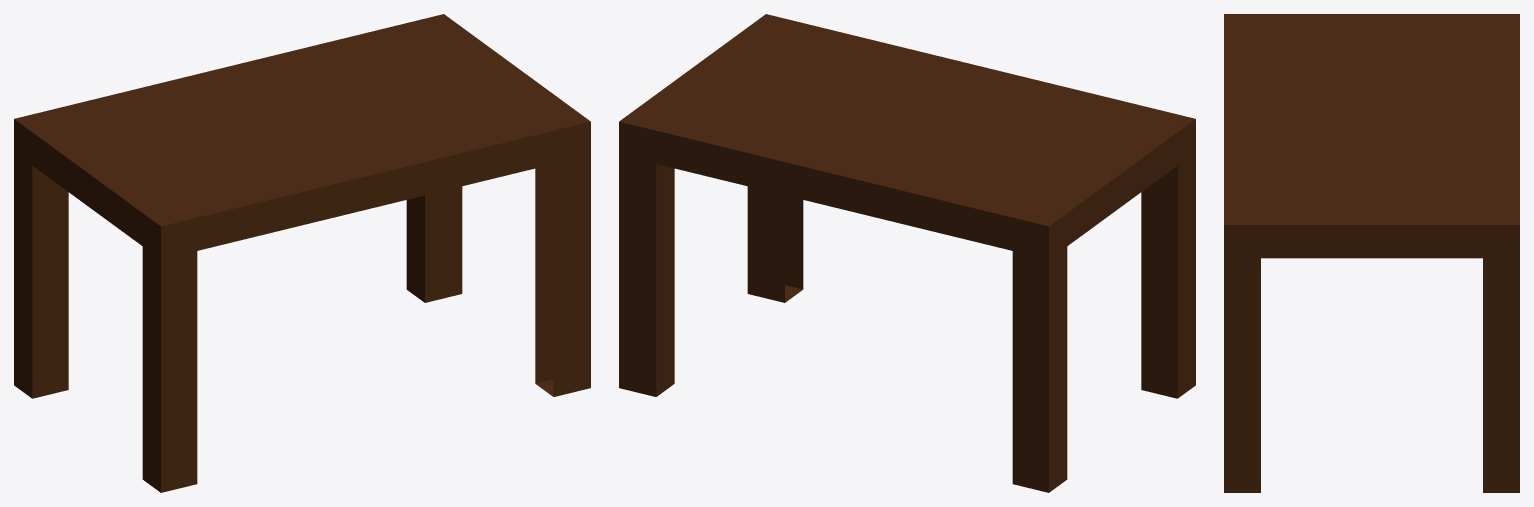
Rendered from simple_desk.fbx.
3 views of the same model, side by side, from view 1: azimuth 30°, elevation 25°; view 2: azimuth 150°, elevation 25°; view 3: azimuth 270°, elevation 25° (orthographic).
Parts seen in each view (by area): view 1: Cube.001; view 2: Cube.001; view 3: Cube.001.
Boxes of the visible parts, x1,y1,x2,y2 form: Cube.001: (14,14,590,492); Cube.001: (619,14,1195,492); Cube.001: (1224,14,1519,492).
Size of the model in its own units: 130 by 77.19 by 77.19.
